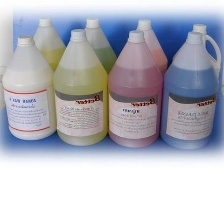cleaning_solution: (156, 29, 220, 154), (105, 28, 166, 151), (51, 25, 111, 149), (0, 30, 61, 142), (169, 21, 223, 117), (117, 16, 170, 108), (68, 14, 120, 99), (24, 14, 70, 97)
